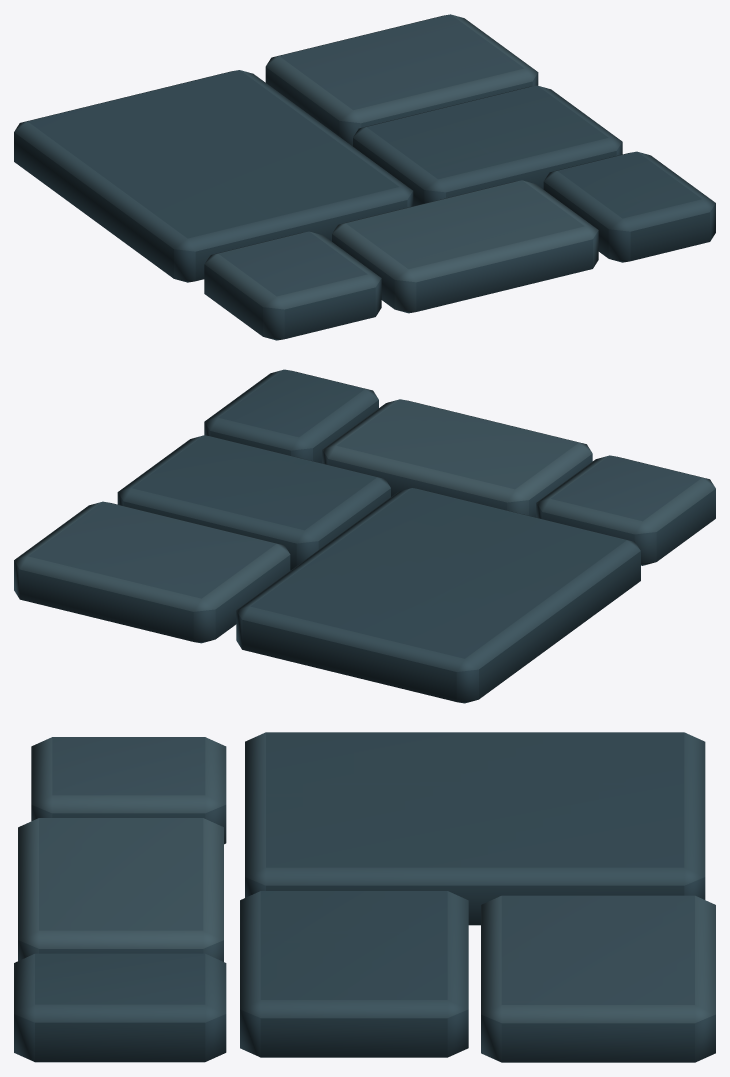
The model's file is stone_path_3.fbx.
3 renders of one model, top to bottom at view 1: azimuth 30°, elevation 25°; view 2: azimuth 150°, elevation 25°; view 3: azimuth 270°, elevation 25°, orthographic. The views are drawn at different scales.
Visible parts, largest first — view 1: stone_path_3; view 2: stone_path_3; view 3: stone_path_3.
Part boxes in pixels (x1,y1,x2,y2): stone_path_3: (14, 14, 715, 340); stone_path_3: (14, 369, 715, 703); stone_path_3: (14, 732, 715, 1062).
Bounding box in the file's own units: 197 × 18.28 × 202.
